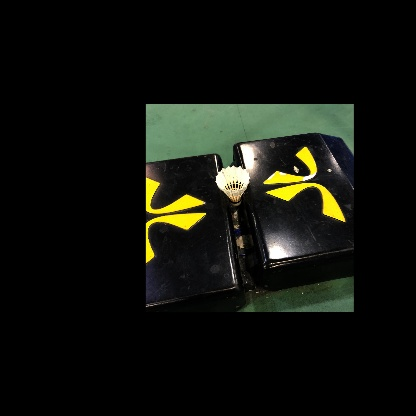ball_single: (215, 165, 250, 206)
